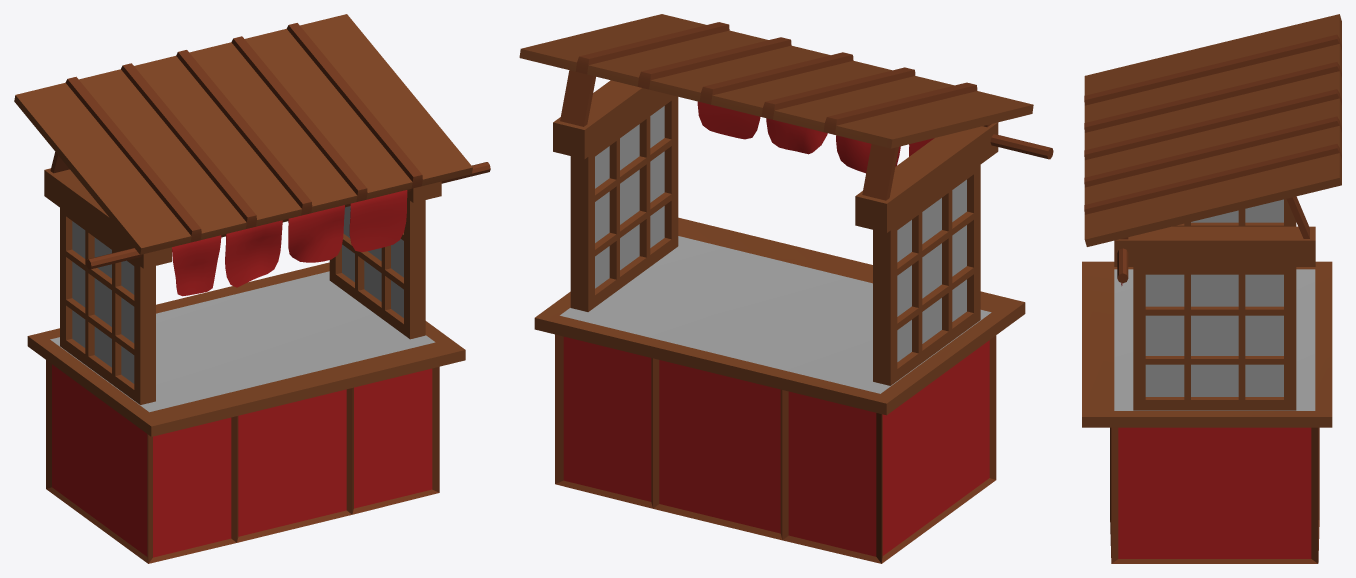
File: BarracaLamen.fbx
3 views of the same model, side by side, from view 1: azimuth 30°, elevation 25°; view 2: azimuth 150°, elevation 25°; view 3: azimuth 270°, elevation 25° (orthographic). The views are drawn at different scales.
Parts seen in each view (by area): view 1: BarracaLamen; view 2: BarracaLamen; view 3: BarracaLamen.
Boxes of the visible parts, box(x1,y1,x2,y2) form: BarracaLamen: box(14, 14, 490, 563); BarracaLamen: box(519, 14, 1053, 563); BarracaLamen: box(1082, 14, 1341, 563).
Bounding box in the file's own units: 279 × 264 × 155.
